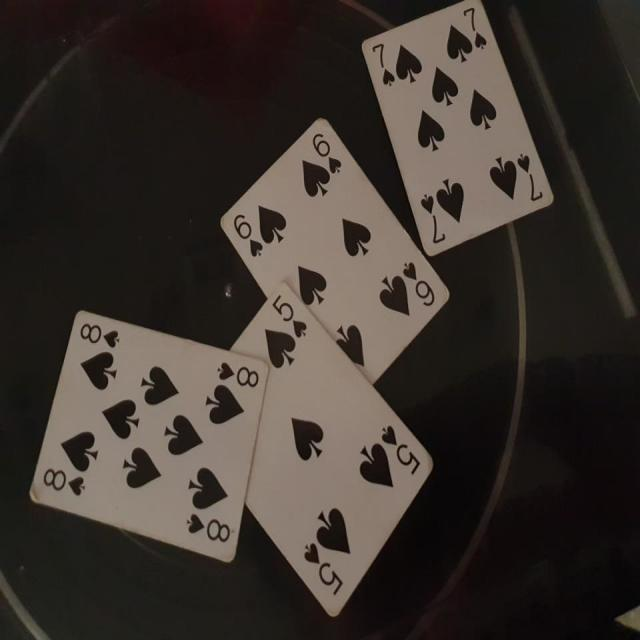5 Spades: (182, 278, 436, 640)
6 Spades: (207, 114, 456, 370)
7 Spades: (351, 6, 570, 252)
8 Spades: (23, 304, 270, 573)
